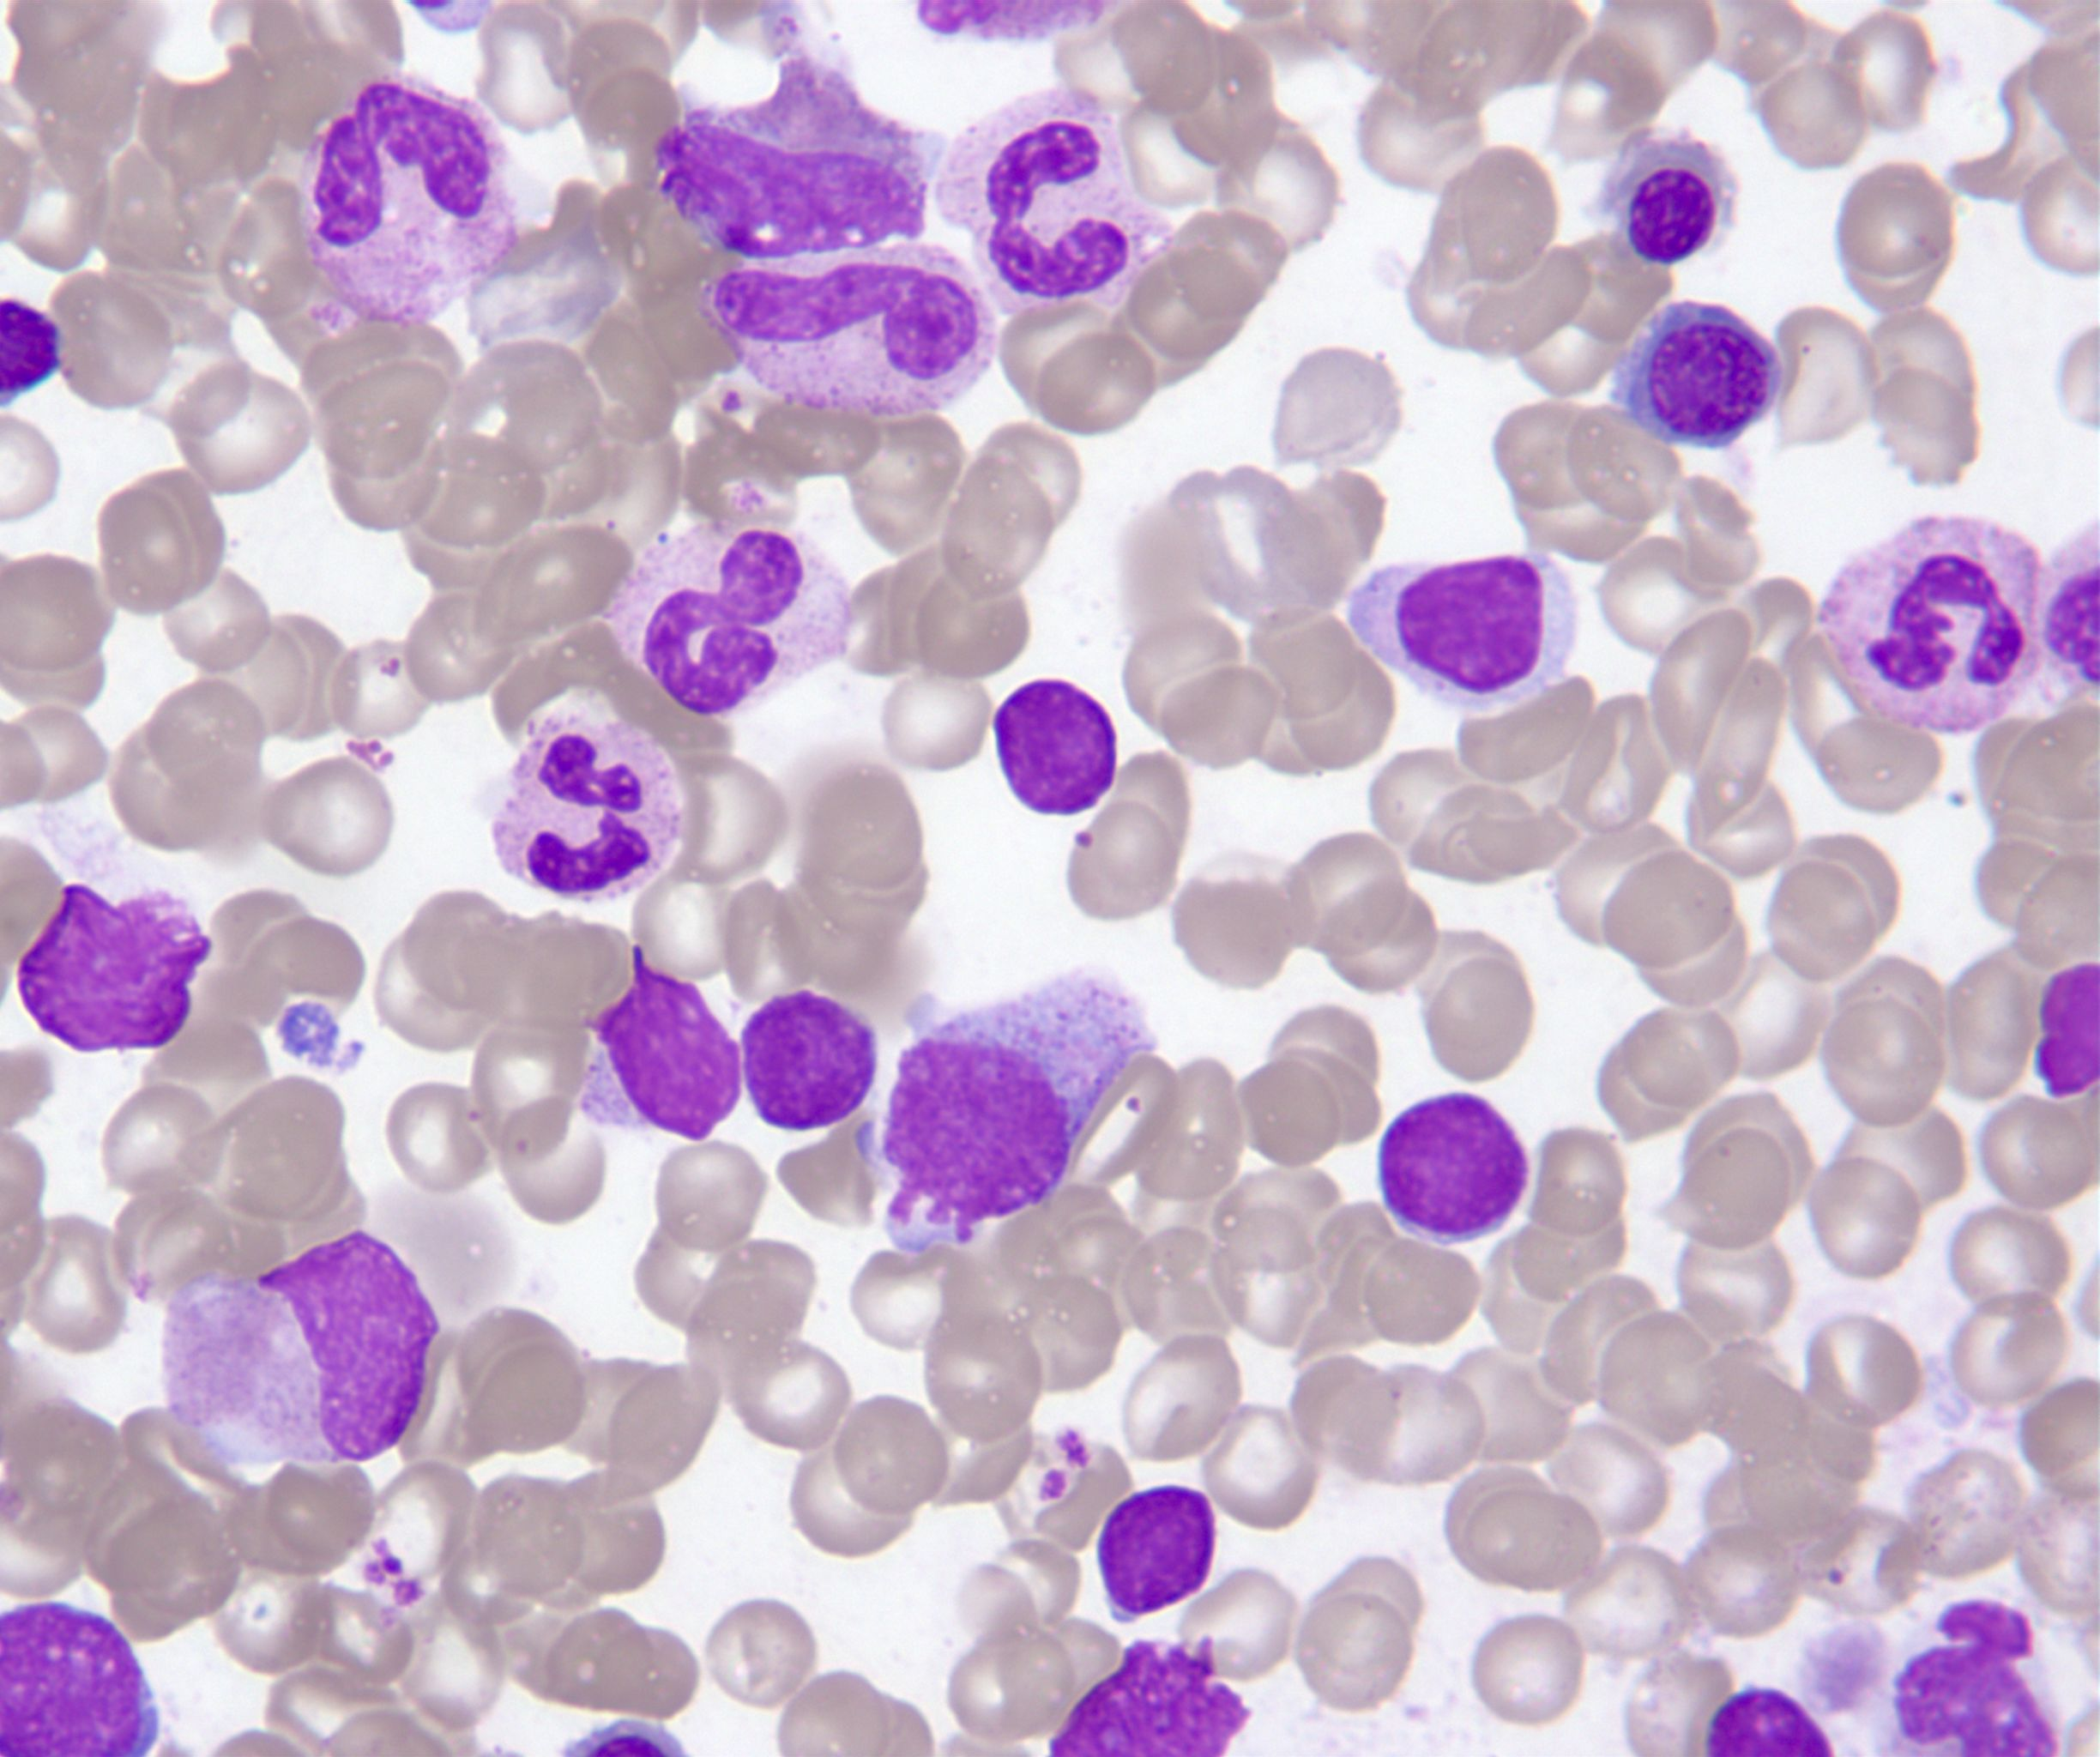23: (1605, 288, 1790, 464)
24: (1599, 131, 1755, 274)
32: (1336, 543, 1585, 724), (567, 930, 753, 1143), (968, 670, 1135, 829), (1374, 1087, 1535, 1248), (731, 979, 879, 1143), (1094, 1476, 1221, 1630)
4: (155, 1220, 452, 1476)
5: (291, 65, 530, 345), (588, 501, 862, 728), (692, 239, 1008, 424), (930, 80, 1162, 316)
6: (1800, 511, 2048, 745), (478, 696, 696, 918)
E2: (649, 47, 959, 265)
x: (872, 956, 1160, 1260), (10, 872, 227, 1057)
